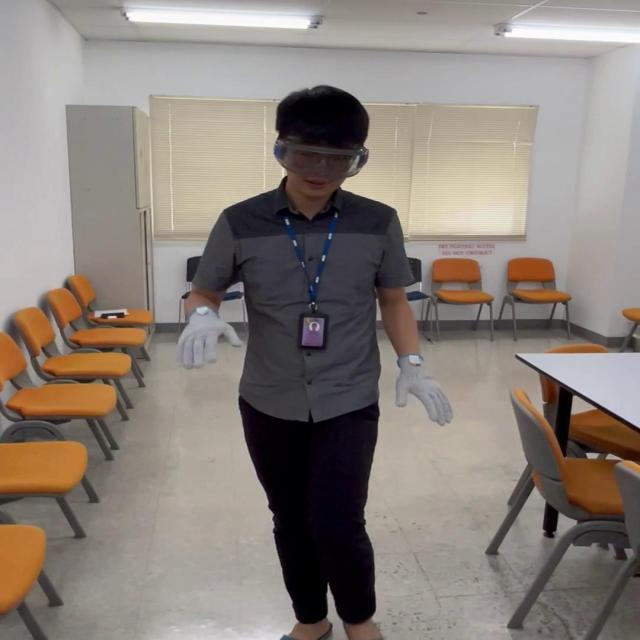gloved_hand: (174, 300, 247, 376), (390, 347, 454, 433)
